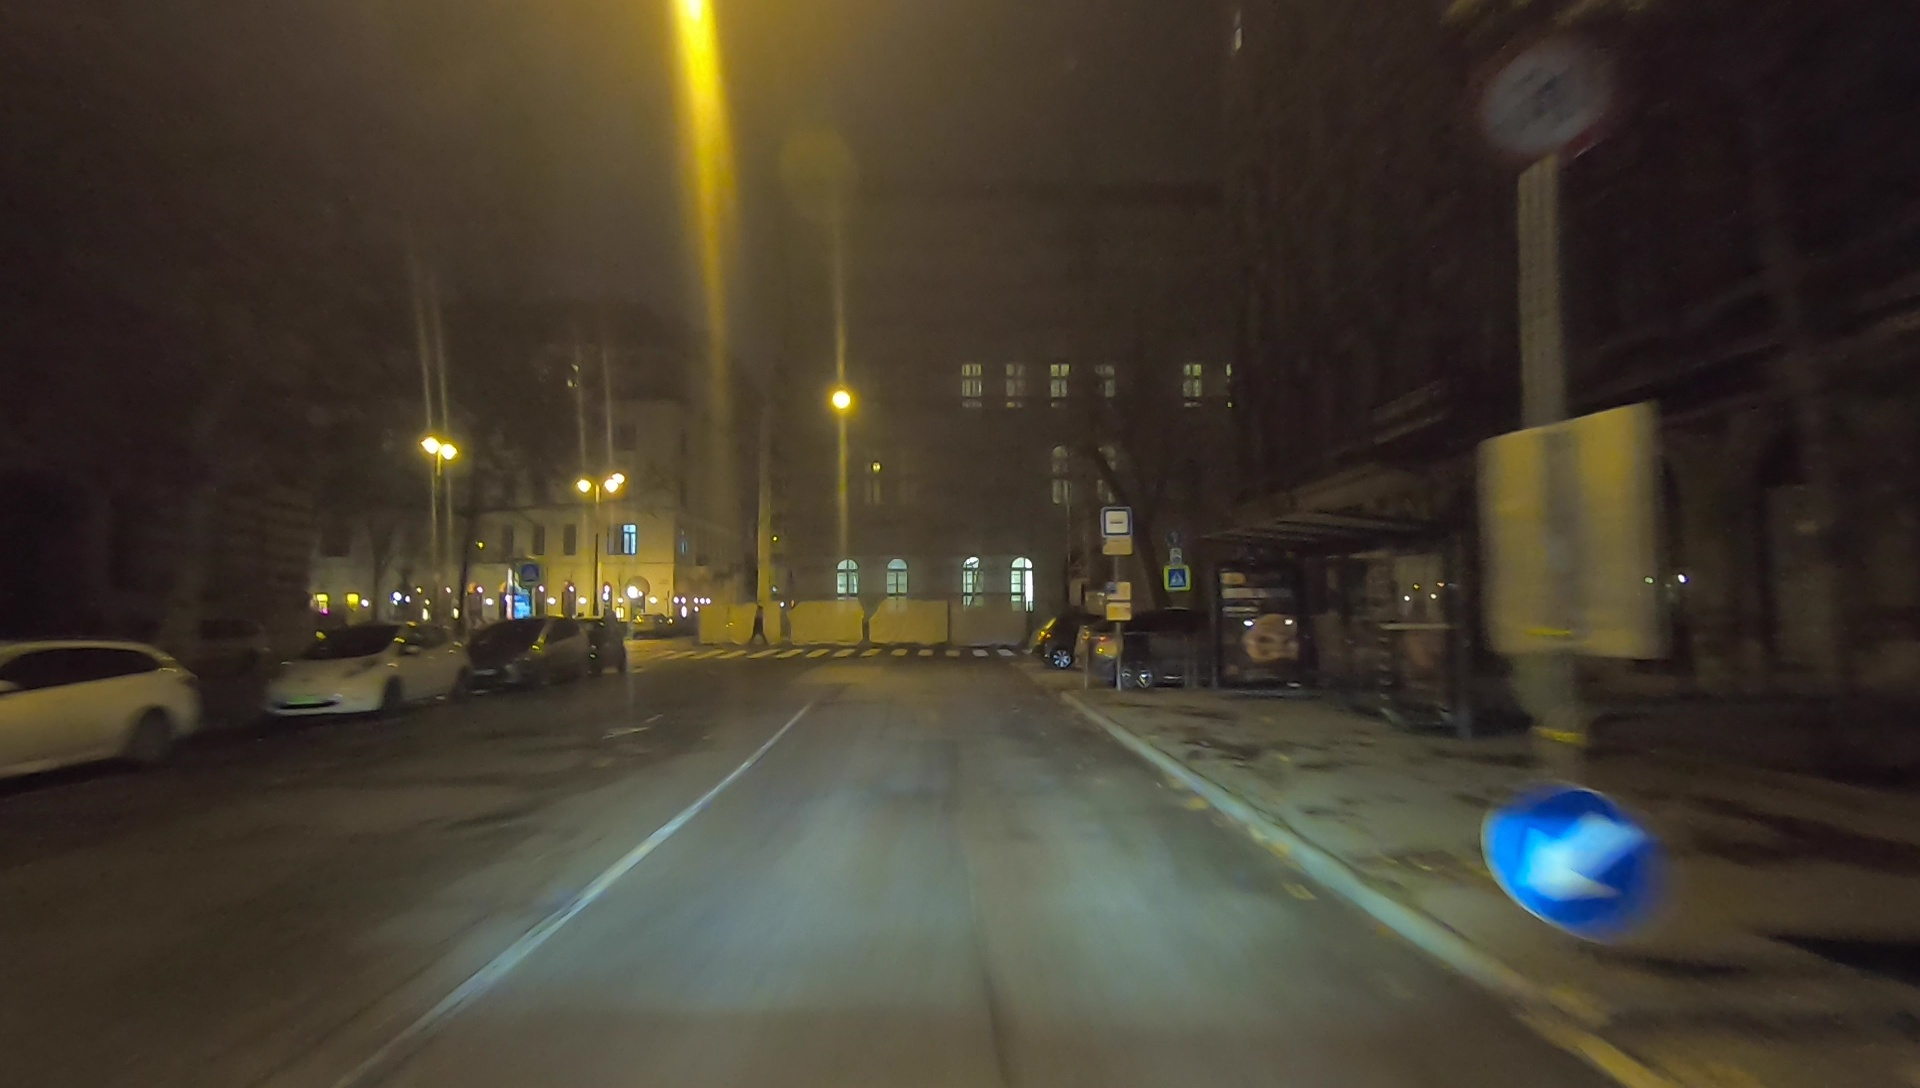person: (752, 606, 767, 649)
